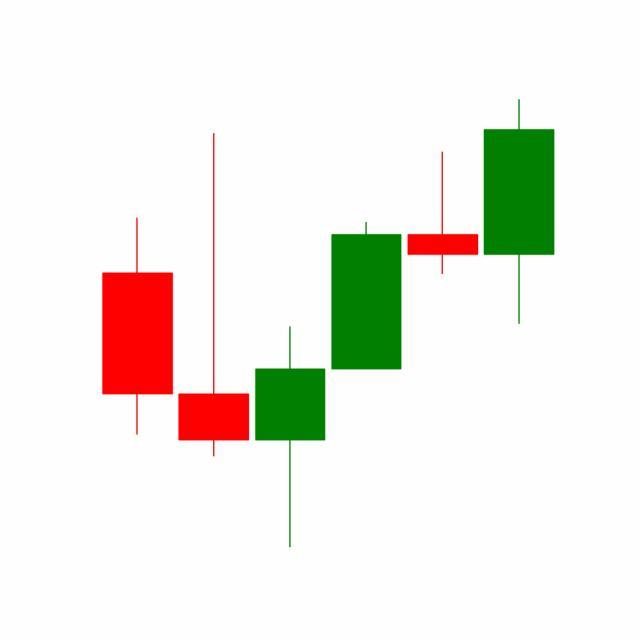Spinning Top: (404, 150, 482, 276)
